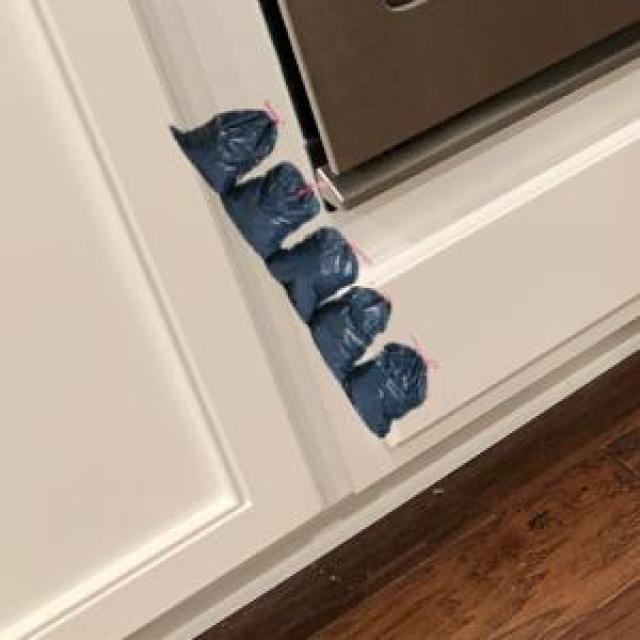waste: (172, 110, 425, 436)
